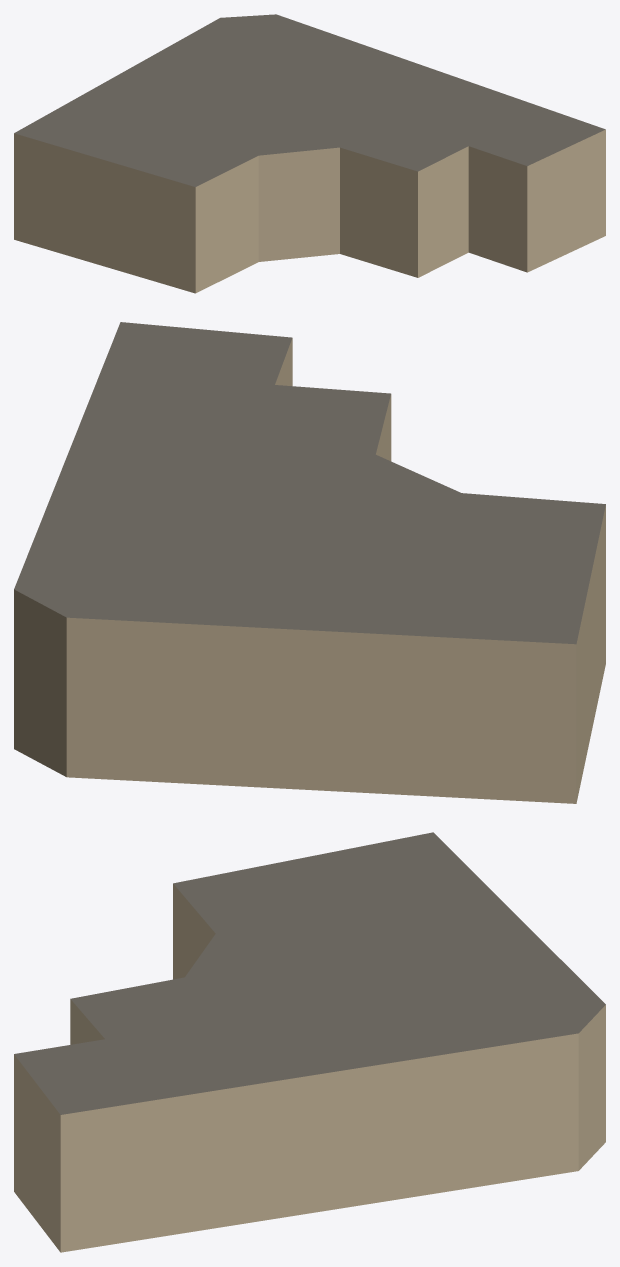
3 renders of one model, top to bottom at view 1: azimuth 30°, elevation 25°; view 2: azimuth 150°, elevation 25°; view 3: azimuth 270°, elevation 25°, orthographic. The views are drawn at different scales.
Parts seen in each view (by area): view 1: HP-w1233759507; view 2: HP-w1233759507; view 3: HP-w1233759507.
Part boxes in pixels (left/top/right/bottom): HP-w1233759507: left=14, top=14, right=605, bottom=293; HP-w1233759507: left=14, top=322, right=605, bottom=803; HP-w1233759507: left=14, top=832, right=605, bottom=1252.
Size of the model in its own units: 43.6 by 9.9 by 38.58.
